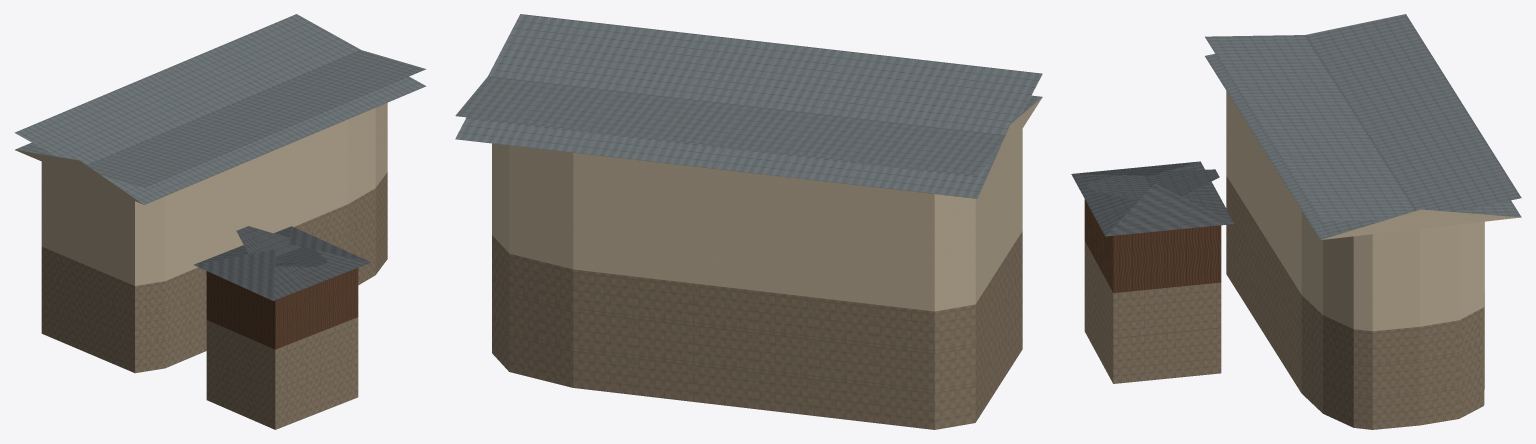
The model's file is bld_c-5_-18_657.gltf.
3 renders of one model, left to right at view 1: azimuth 30°, elevation 25°; view 2: azimuth 150°, elevation 25°; view 3: azimuth 270°, elevation 25°, orthographic. The views are drawn at different scales.
Parts seen in each view (by area): view 1: bld_c-5_-18_657; view 2: bld_c-5_-18_657; view 3: bld_c-5_-18_657.
Part boxes in pixels (x1,y1,x2,y2): bld_c-5_-18_657: (14, 14, 426, 429); bld_c-5_-18_657: (455, 14, 1042, 429); bld_c-5_-18_657: (1071, 14, 1521, 429).
Size of the model in its own units: 22.92 by 13 by 21.11.
6 materials, 6 textured.
